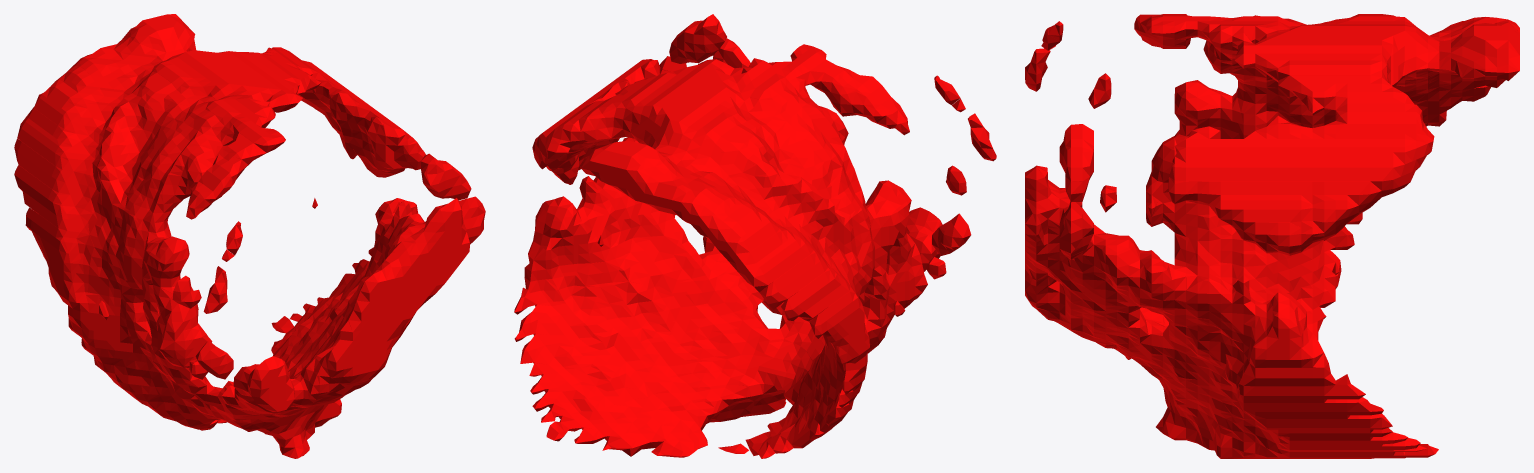
The model's file is B939XXXX-1_valve_27.obj.
The picture shows the model from 3 angles, left to right: view 1: azimuth 30°, elevation 25°; view 2: azimuth 150°, elevation 25°; view 3: azimuth 270°, elevation 25°; orthographic projection. The views are drawn at different scales.
Visible parts, largest first — view 1: 27_valve; view 2: 27_valve; view 3: 27_valve.
Boxes of the visible parts, x1=… form: 27_valve: x1=14, y1=14, x2=485, y2=458; 27_valve: x1=514, y1=14, x2=996, y2=458; 27_valve: x1=1025, y1=14, x2=1519, y2=458.
Bounding box in the file's own units: 77.98 × 76.97 × 85.95.
